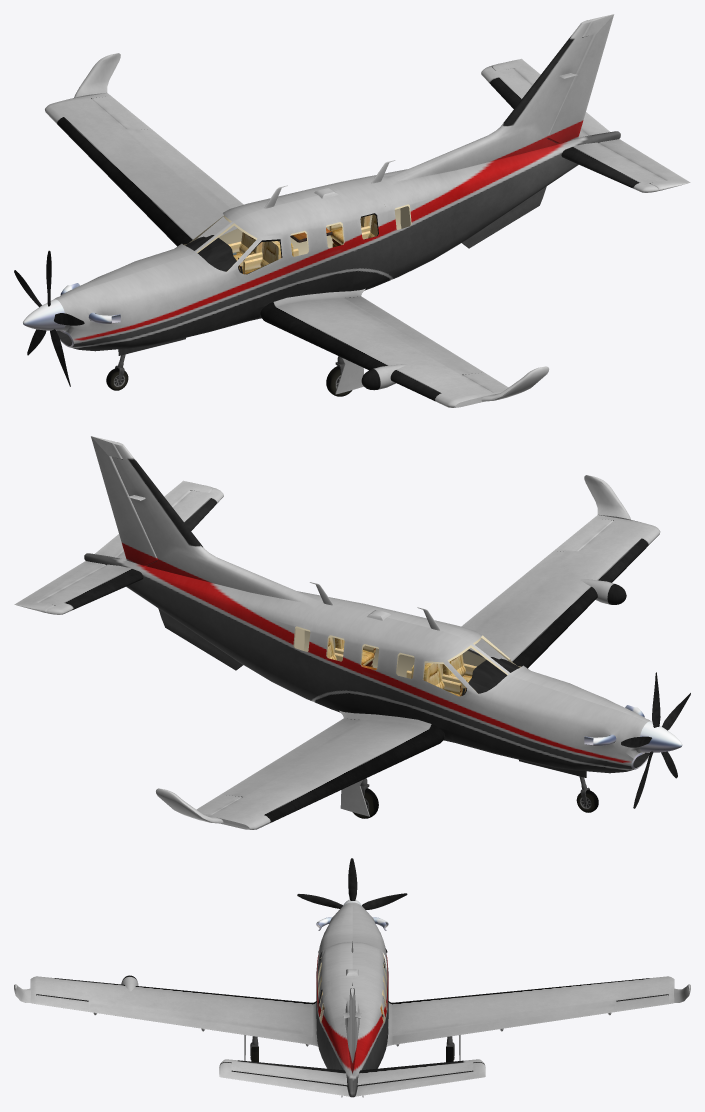
Rendered from tbm.gltf.
3 views of the same model, one above another, from view 1: azimuth 30°, elevation 25°; view 2: azimuth 150°, elevation 25°; view 3: azimuth 270°, elevation 25° (orthographic). The views are drawn at different scales.
Parts seen in each view (by area): view 1: fuselage_fuselage.mesh, ailes_ailes.mesh, ailes2_ailes2.mesh, direction_direction.mesh, voletG_voletG.mesh, helice_helice.mesh, porteH_porteH.mesh, interieur_interieur.mesh, voletD_voletD.mesh, porteB_porteB.mesh, profondeurG_profondeurG.mesh, portecrew_portecrew.mesh (+8 smaller); view 2: fuselage_fuselage.mesh, ailes_ailes.mesh, ailes2_ailes2.mesh, direction_direction.mesh, voletD_voletD.mesh, helice_helice.mesh, voletG_voletG.mesh, profondeurD_profondeurD.mesh, interieur_interieur.mesh, ajouts_ajouts.mesh, panel, profondeurG_profondeurG.mesh (+5 smaller); view 3: ailes_ailes.mesh, fuselage_fuselage.mesh, ailes2_ailes2.mesh, voletG_voletG.mesh, voletD_voletD.mesh, profondeurG_profondeurG.mesh, profondeurD_profondeurD.mesh, helice_helice.mesh, trous_trous.mesh, aileronG_aileronG.mesh, aileronD_aileronD.mesh, direction_direction.mesh.
Part boxes in pixels (x1,y1,x2,y2): fuselage_fuselage.mesh: [54, 20, 620, 351]; ailes_ailes.mesh: [45, 53, 549, 407]; ailes2_ailes2.mesh: [481, 66, 665, 192]; direction_direction.mesh: [547, 14, 614, 143]; voletG_voletG.mesh: [344, 296, 482, 372]; helice_helice.mesh: [14, 250, 84, 386]; porteH_porteH.mesh: [349, 199, 389, 251]; interieur_interieur.mesh: [183, 204, 411, 271]; voletD_voletD.mesh: [138, 128, 243, 208]; porteB_porteB.mesh: [354, 242, 390, 285]; profondeurG_profondeurG.mesh: [599, 139, 690, 190]; portecrew_portecrew.mesh: [235, 234, 285, 290]; fuselage_fuselage.mesh: [84, 442, 651, 773]; ailes_ailes.mesh: [156, 475, 660, 829]; ailes2_ailes2.mesh: [39, 488, 223, 614]; direction_direction.mesh: [91, 436, 157, 565]; voletD_voletD.mesh: [222, 718, 360, 794]; helice_helice.mesh: [621, 672, 690, 808]; voletG_voletG.mesh: [461, 550, 566, 630]; profondeurD_profondeurD.mesh: [14, 561, 105, 612]; interieur_interieur.mesh: [293, 626, 521, 696]; ajouts_ajouts.mesh: [158, 608, 242, 670]; panel: [466, 657, 519, 693]; profondeurG_profondeurG.mesh: [95, 480, 213, 557]; ailes_ailes.mesh: [14, 976, 690, 1046]; fuselage_fuselage.mesh: [316, 902, 388, 1097]; ailes2_ailes2.mesh: [220, 1059, 484, 1084]; voletG_voletG.mesh: [91, 1006, 312, 1046]; voletD_voletD.mesh: [392, 1006, 613, 1046]; profondeurG_profondeurG.mesh: [219, 1062, 349, 1096]; profondeurD_profondeurD.mesh: [355, 1062, 485, 1096]; helice_helice.mesh: [297, 858, 407, 952]; trous_trous.mesh: [36, 988, 668, 1086]; aileronG_aileronG.mesh: [36, 995, 88, 1011]; aileronD_aileronD.mesh: [616, 995, 668, 1011]; direction_direction.mesh: [350, 988, 354, 1074].
Bounding box in the file's own units: 10.68 × 4.35 × 13.32.
